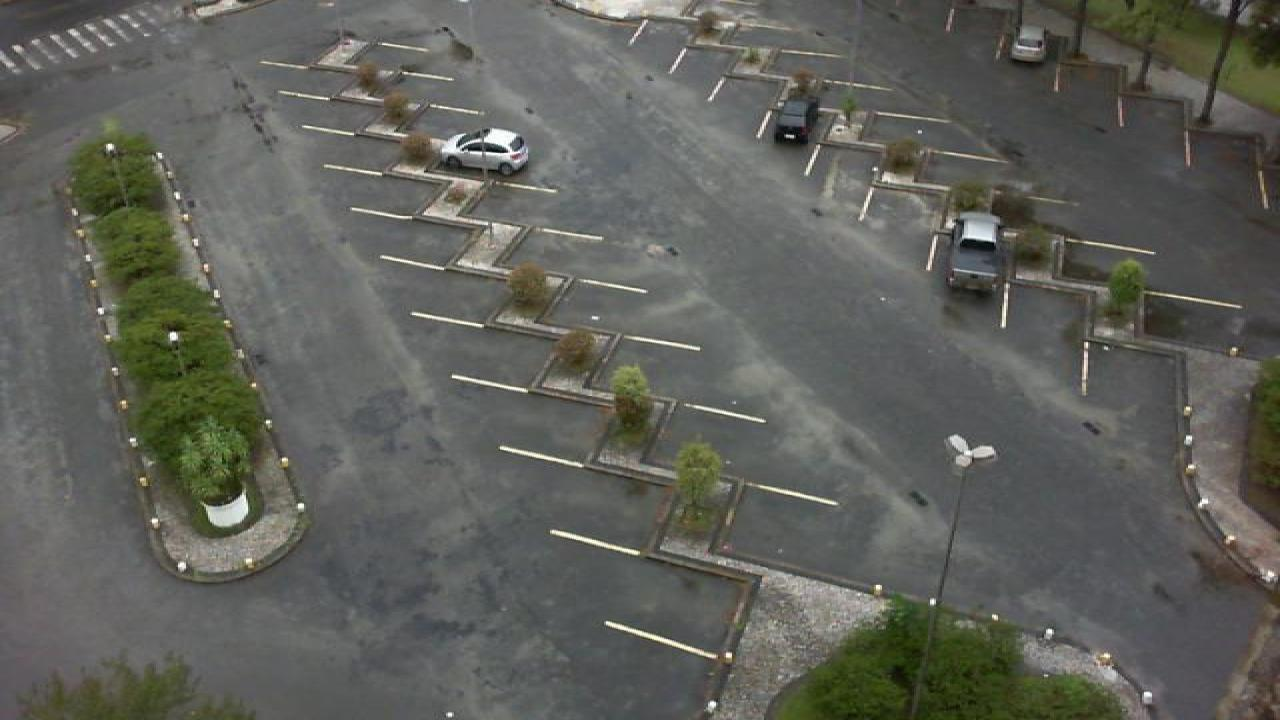Car: (944, 210, 1006, 294), (438, 127, 530, 177), (772, 93, 820, 146), (1006, 26, 1048, 64)
